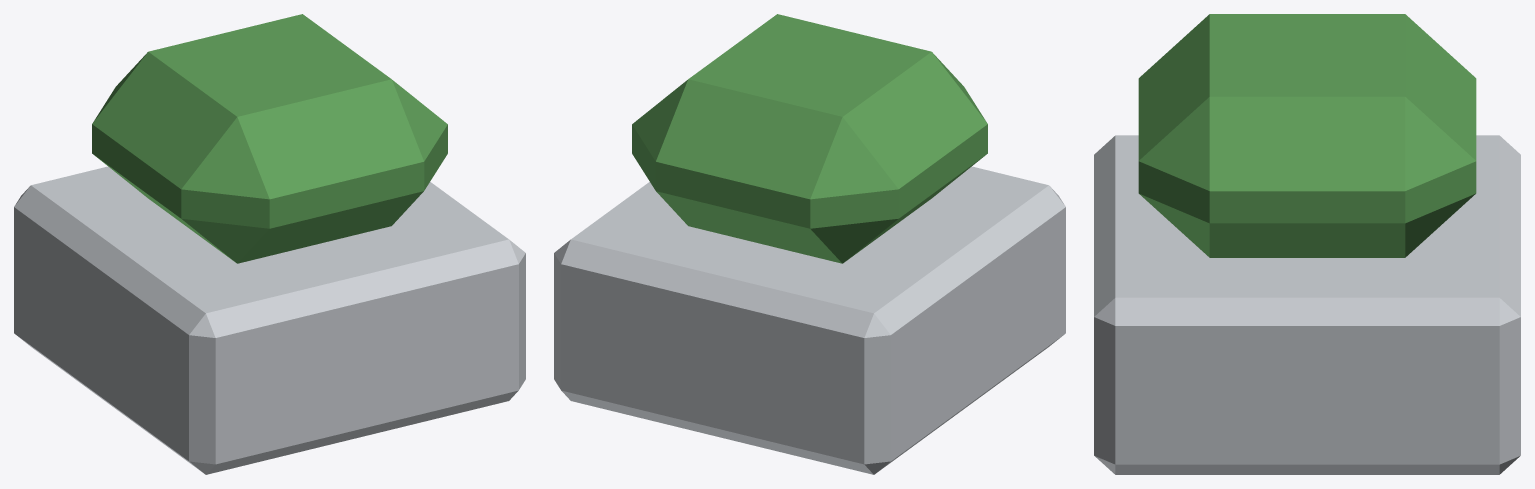
Rendered from planter.fbx.
3 renders of one model, left to right at view 1: azimuth 30°, elevation 25°; view 2: azimuth 150°, elevation 25°; view 3: azimuth 270°, elevation 25°, orthographic. The views are drawn at different scales.
Parts seen in each view (by area): view 1: planter; view 2: planter; view 3: planter.
Boxes of the visible parts, x1=… form: planter: x1=14, y1=14, x2=525, y2=474; planter: x1=554, y1=14, x2=1065, y2=474; planter: x1=1094, y1=14, x2=1520, y2=474.
Bounding box in the file's own units: 1.2 × 1.05 × 1.2.
